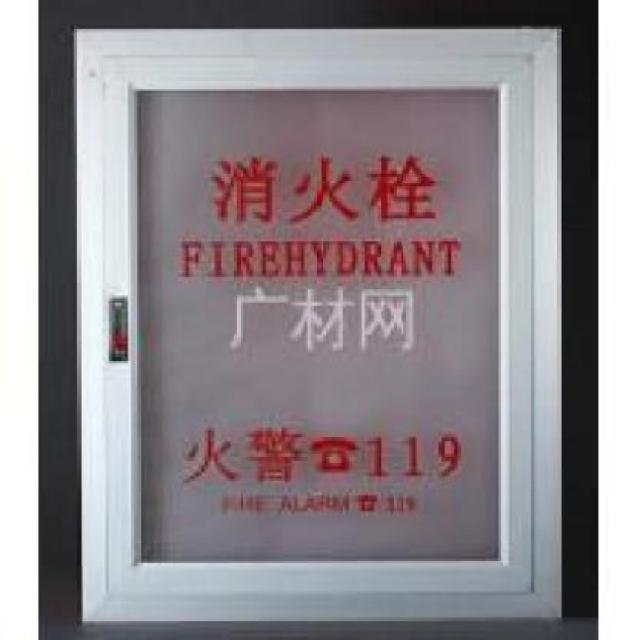firehydrant: (69, 20, 564, 627)
